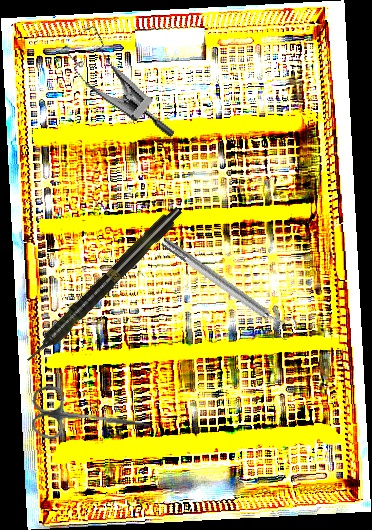Fixation Ring: (156, 229, 300, 344)
Handpiece: (21, 202, 186, 368)
Iris Scissors: (28, 383, 156, 451)
Speculum: (46, 16, 201, 140)
